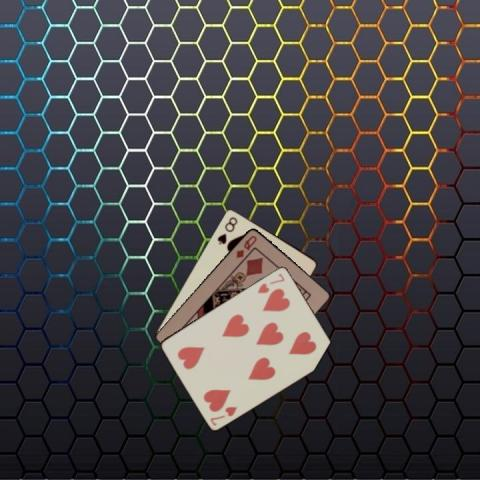7h: (255, 270, 286, 295), (207, 403, 238, 427)
8s: (214, 213, 239, 246)
Qd: (233, 232, 258, 259)
